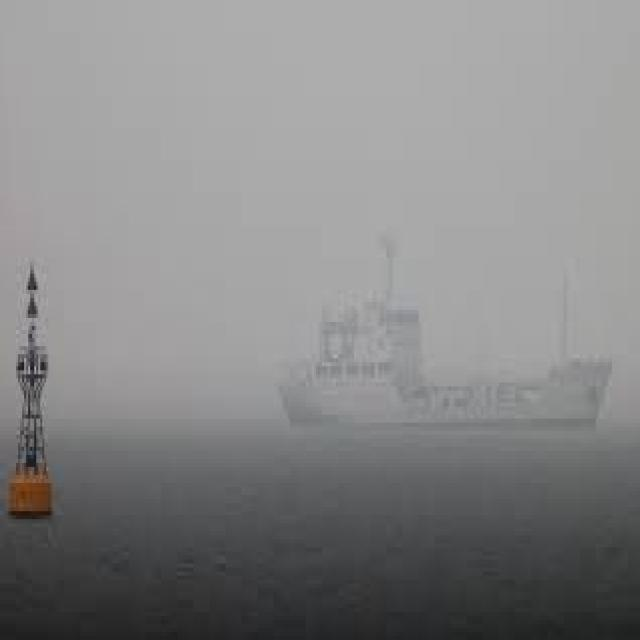buoy: (4, 258, 59, 514)
cargoship: (274, 226, 604, 436)
